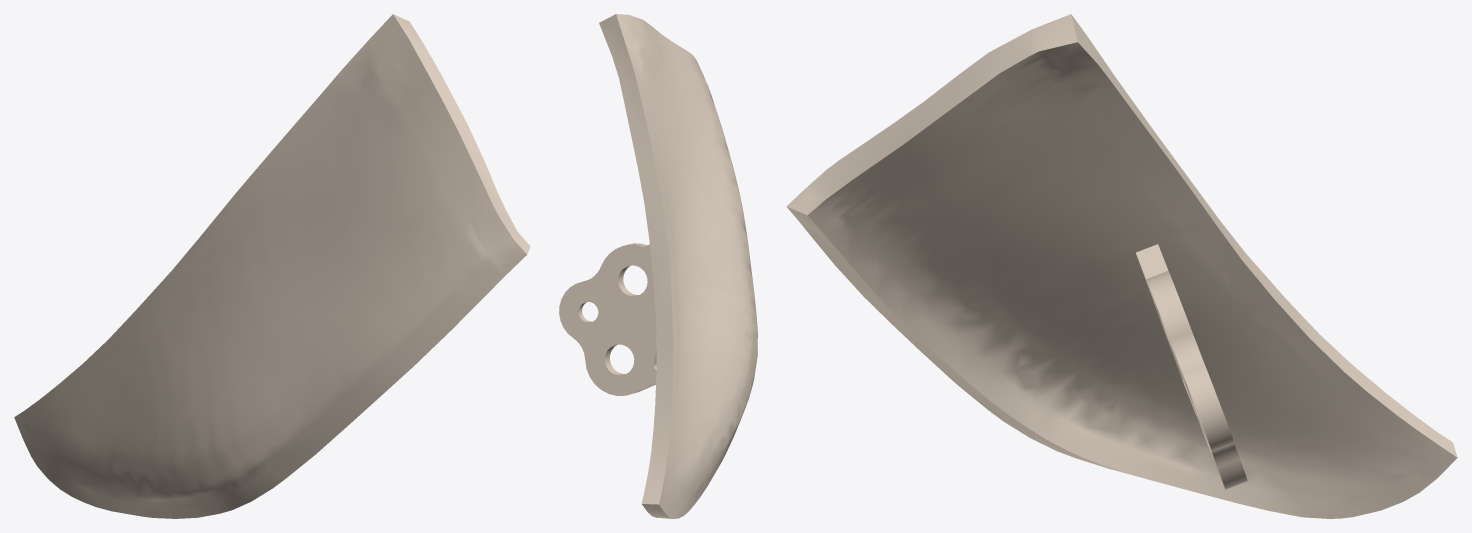
Rendered from Lower_Cheek.gltf.
3 renders of one model, left to right at view 1: azimuth 30°, elevation 25°; view 2: azimuth 150°, elevation 25°; view 3: azimuth 270°, elevation 25°, orthographic. The views are drawn at different scales.
Parts seen in each view (by area): view 1: Lower Cheek v1; view 2: Lower Cheek v1; view 3: Lower Cheek v1.
Part boxes in pixels (x1,y1,x2,y2): Lower Cheek v1: (14, 14, 530, 518); Lower Cheek v1: (559, 14, 757, 518); Lower Cheek v1: (786, 14, 1457, 518).
Bounding box in the file's own units: 0.0416 × 0.0845 × 0.0838.
